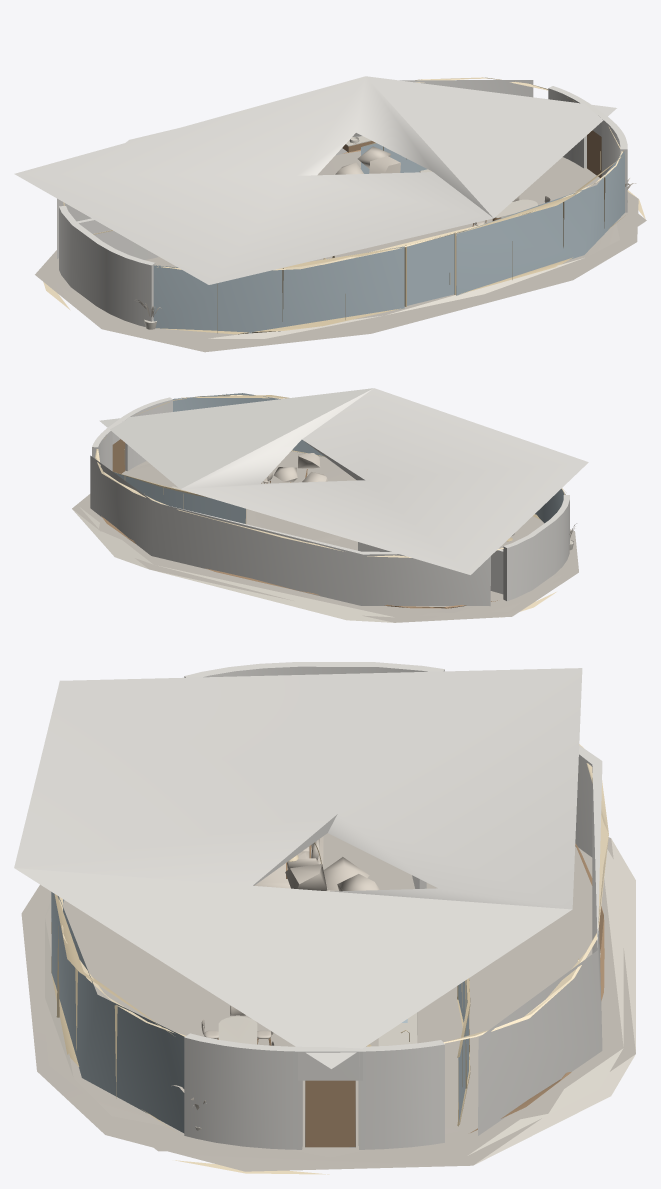
Rendered from Dune_LOD2.dae.
The picture shows the model from 3 angles, top to bottom: view 1: azimuth 30°, elevation 25°; view 2: azimuth 150°, elevation 25°; view 3: azimuth 270°, elevation 25°; orthographic projection. The views are drawn at different scales.
Parts seen in each view (by area): view 1: Dune_Roof_LOD2, Dune_Glass_S_LOD2, Dune_Floor_LOD2, Dune_Wall_W_LOD2, Dune_Door_S_LOD2, Dune_Wall_E_LOD2, Dune_Wall_N_LOD2, Dune_Courtyard_LOD2, Dune_Partition_LOD2, Dune_Door_E_LOD2, Dune_Bath_Screen_LOD2; view 2: Dune_Roof_LOD2, Dune_Wall_N_LOD2, Dune_Floor_LOD2, Dune_Wall_W_LOD2, Dune_Bath_Screen_LOD2, Dune_Courtyard_LOD2, Dune_Glass_S_LOD2, Dune_Wall_E_LOD2, Dune_Partition_LOD2, Dune_Door_E_LOD2; view 3: Dune_Roof_LOD2, Dune_Floor_LOD2, Dune_Wall_E_LOD2, Dune_Wall_N_LOD2, Dune_Glass_S_LOD2, Dune_Door_E_LOD2, Dune_Wall_W_LOD2, Dune_Courtyard_LOD2, Dune_Bath_Screen_LOD2, Dune_Dining_Table_LOD2, Dune_Island_LOD2.
Part boxes in pixels (x1,y1,x2,y2): Dune_Roof_LOD2: (14,76,622,284); Dune_Glass_S_LOD2: (153,150,625,334); Dune_Floor_LOD2: (35,151,646,352); Dune_Wall_W_LOD2: (59,206,155,326); Dune_Door_S_LOD2: (404,232,456,306); Dune_Wall_E_LOD2: (548,86,627,212); Dune_Wall_N_LOD2: (57,80,533,258); Dune_Courtyard_LOD2: (335,146,416,248); Dune_Partition_LOD2: (77,218,158,259); Dune_Door_E_LOD2: (587,130,601,177); Dune_Bath_Screen_LOD2: (361,142,427,173); Dune_Roof_LOD2: (95,388,588,574); Dune_Wall_N_LOD2: (90,455,497,608); Dune_Floor_LOD2: (72,451,578,622); Dune_Wall_W_LOD2: (503,495,569,601); Dune_Bath_Screen_LOD2: (113,471,246,523); Dune_Courtyard_LOD2: (255,453,341,540); Dune_Glass_S_LOD2: (173,393,566,523); Dune_Wall_E_LOD2: (92,397,172,471); Dune_Partition_LOD2: (358,542,503,594); Dune_Door_E_LOD2: (112,439,125,473); Dune_Roof_LOD2: (14,668,608,1068); Dune_Floor_LOD2: (21,833,635,1174); Dune_Wall_E_LOD2: (184,1033,444,1149); Dune_Wall_N_LOD2: (470,745,604,1135); Dune_Glass_S_LOD2: (51,892,184,1133); Dune_Door_E_LOD2: (305,1080,355,1147); Dune_Wall_W_LOD2: (184,662,444,677); Dune_Courtyard_LOD2: (285,857,379,891); Dune_Bath_Screen_LOD2: (457,978,470,1126); Dune_Dining_Table_LOD2: (218,1016,257,1044); Dune_Island_LOD2: (378,1012,417,1046).
Bounding box in the file's own units: 27.8 × 17.8 × 4.34.
